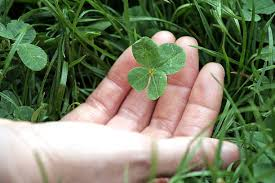4-clover: (127, 38, 186, 102)
